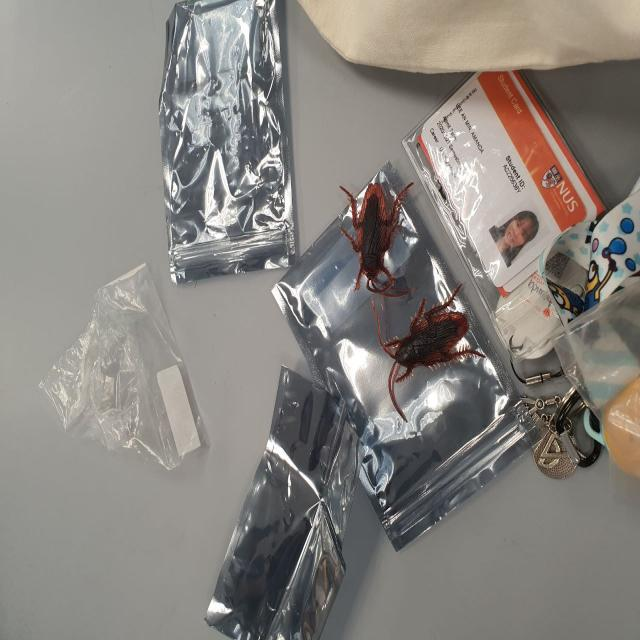Cockroach: (370, 277, 484, 432), (340, 169, 420, 304)
